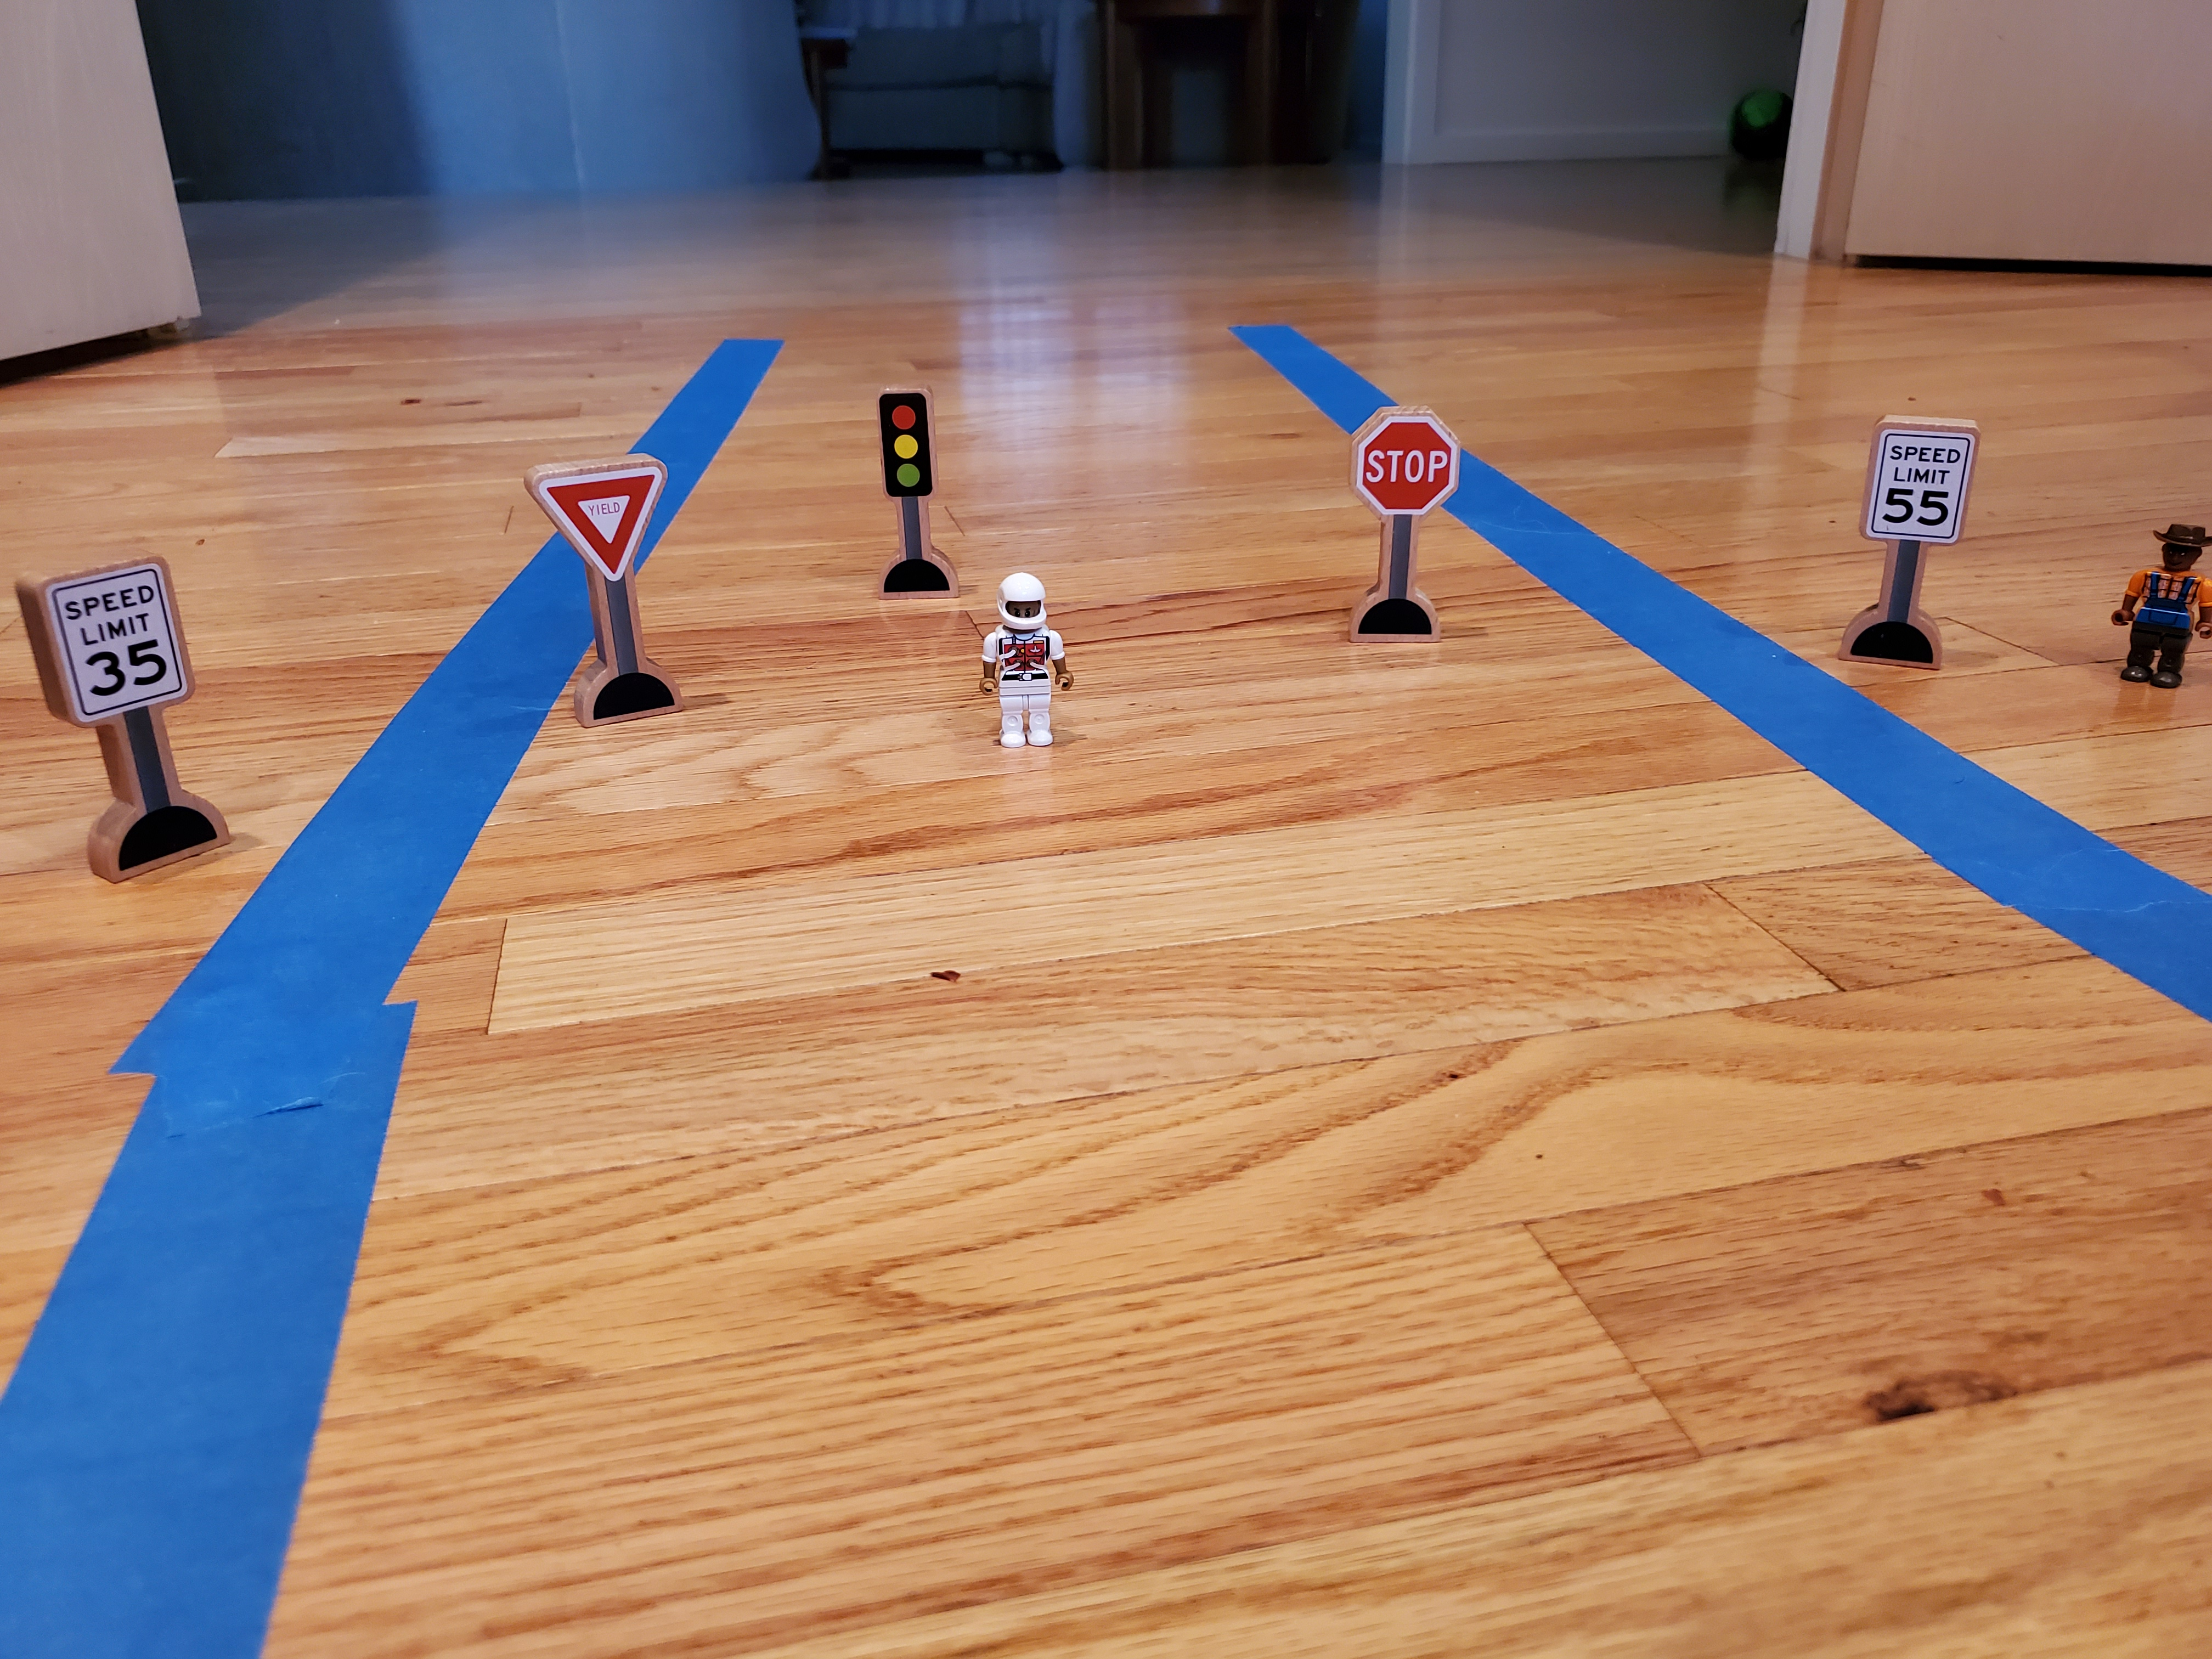Red Traffic Light: (872, 376, 940, 505)
Speed Limit 35: (12, 552, 210, 729)
Speed Limit 55: (1850, 398, 1984, 554)
Stop Sign: (1346, 397, 1462, 526)
Yield Sign: (524, 447, 674, 589)
person: (974, 572, 1076, 762), (2106, 518, 2212, 692)
